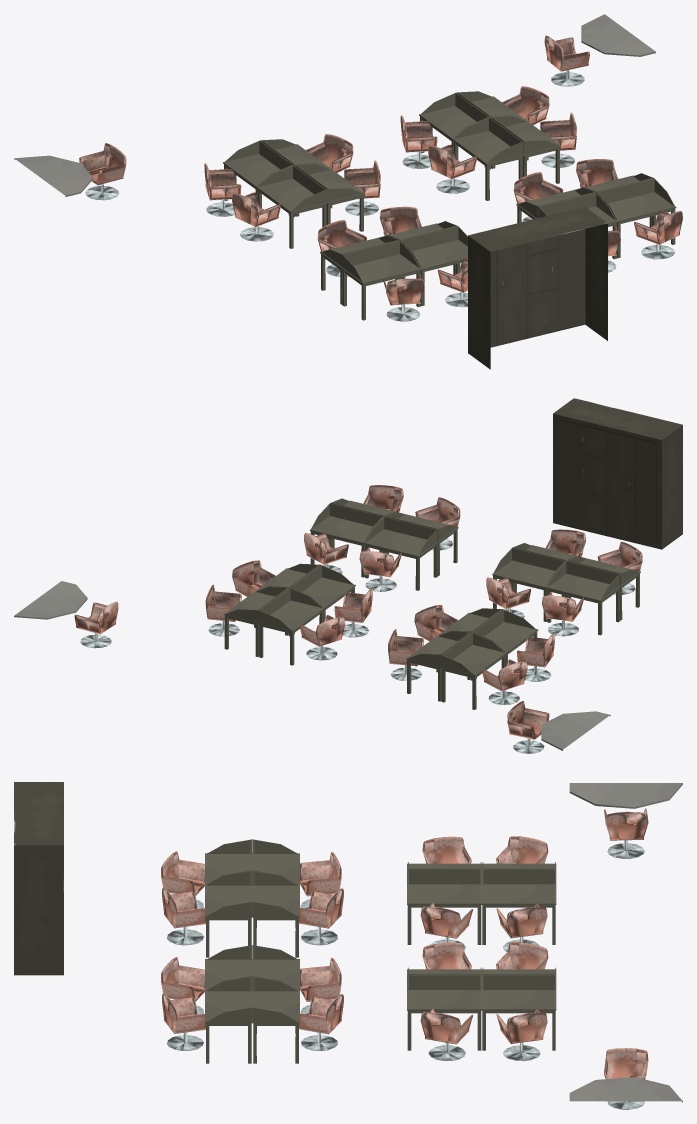
File: office room 3.FBX
3 renders of one model, top to bottom at view 1: azimuth 30°, elevation 25°; view 2: azimuth 150°, elevation 25°; view 3: azimuth 270°, elevation 25°, orthographic. The views are drawn at different scales.
Visible parts, largest first — view 1: Object097; view 2: Object097; view 3: Object097.
Part boxes in pixels (box(x1,y1,x2,y2)): Object097: box(14, 14, 682, 369); Object097: box(14, 398, 682, 753); Object097: box(14, 782, 682, 1109).
Size of the model in its own units: 1257 by 249 by 1116.
1 material, 1 textured.
